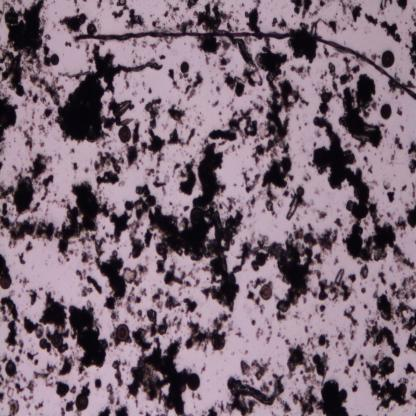Background material: (152, 143, 226, 260), (195, 144, 238, 312), (311, 115, 375, 220), (55, 181, 112, 261), (130, 336, 186, 415), (266, 224, 314, 316), (346, 217, 416, 269), (57, 81, 111, 143), (0, 1, 45, 72), (340, 73, 382, 148), (67, 297, 108, 371), (128, 308, 182, 349), (0, 166, 36, 217), (258, 40, 288, 101), (262, 155, 294, 212), (231, 233, 270, 276), (0, 217, 54, 248), (209, 108, 258, 141), (316, 267, 356, 305), (364, 318, 401, 359), (265, 100, 291, 156), (368, 378, 412, 410), (0, 49, 28, 99), (39, 289, 69, 332), (102, 251, 127, 301), (143, 98, 165, 154), (317, 377, 349, 415), (124, 184, 156, 219), (94, 148, 123, 186), (0, 294, 19, 350), (30, 72, 60, 106), (278, 80, 312, 108), (0, 93, 19, 142), (172, 159, 196, 197), (78, 233, 107, 264), (76, 266, 102, 300), (221, 197, 244, 235), (193, 2, 223, 31), (289, 36, 318, 66), (185, 320, 211, 352), (370, 289, 393, 324), (388, 272, 416, 300), (365, 352, 394, 379), (127, 118, 141, 171), (152, 286, 180, 312), (393, 301, 416, 332), (29, 153, 52, 182), (244, 0, 264, 33), (109, 211, 129, 244), (292, 388, 316, 415), (59, 9, 87, 32), (126, 288, 144, 323), (164, 263, 188, 289), (239, 358, 270, 378), (129, 219, 144, 260), (287, 345, 305, 379), (92, 44, 115, 70), (340, 56, 360, 85), (34, 362, 56, 387), (23, 314, 44, 340), (123, 264, 149, 285), (286, 196, 306, 223), (316, 227, 338, 251), (126, 8, 148, 31), (225, 73, 246, 97), (312, 351, 329, 380), (380, 21, 402, 42), (198, 36, 220, 57), (184, 72, 202, 97), (404, 31, 416, 68), (155, 240, 168, 274), (56, 353, 74, 377), (40, 176, 55, 204), (12, 379, 34, 398), (290, 1, 312, 20), (212, 315, 234, 333), (168, 103, 186, 125), (327, 62, 339, 94), (53, 378, 71, 398), (184, 295, 200, 317), (242, 171, 258, 193), (167, 67, 181, 92), (289, 66, 312, 81), (106, 297, 119, 323), (112, 360, 124, 388), (302, 364, 317, 386), (252, 142, 265, 166), (26, 285, 40, 307), (153, 175, 168, 195), (344, 305, 359, 325), (220, 11, 233, 34), (405, 203, 416, 230), (102, 75, 116, 96), (164, 1, 180, 19), (168, 128, 184, 146), (322, 18, 340, 34), (5, 396, 20, 415), (245, 194, 256, 219), (218, 55, 232, 73), (405, 331, 416, 353), (42, 44, 52, 68), (24, 126, 34, 150), (272, 16, 287, 32), (175, 20, 193, 33), (317, 332, 330, 350), (114, 402, 130, 416), (364, 12, 377, 29), (108, 101, 120, 119), (0, 251, 9, 275), (79, 378, 91, 396), (106, 384, 116, 405), (395, 218, 408, 234), (143, 228, 153, 248), (310, 18, 321, 36), (360, 264, 371, 281), (186, 125, 194, 148), (403, 361, 416, 375), (256, 323, 266, 341), (102, 118, 117, 130), (258, 120, 266, 142), (351, 5, 362, 21), (340, 0, 350, 17), (279, 399, 291, 413), (319, 102, 331, 116), (266, 320, 273, 344), (153, 17, 164, 32), (333, 216, 343, 232), (377, 270, 387, 286), (314, 251, 324, 267), (188, 272, 200, 285), (61, 402, 74, 414), (277, 310, 288, 324), (97, 406, 112, 416), (394, 135, 404, 150), (16, 342, 23, 363), (116, 0, 128, 12), (156, 152, 165, 168), (254, 277, 266, 289), (403, 80, 416, 91), (27, 351, 38, 364), (259, 381, 270, 394), (348, 352, 358, 366), (220, 40, 230, 54), (386, 189, 396, 203), (408, 158, 416, 175), (43, 107, 55, 118), (253, 101, 264, 113), (317, 206, 327, 219), (396, 0, 409, 10), (387, 79, 397, 92), (93, 376, 102, 390), (407, 141, 416, 155), (382, 179, 392, 191), (410, 6, 416, 26), (112, 9, 125, 18), (349, 325, 356, 341), (34, 399, 44, 410), (379, 0, 388, 12), (186, 1, 198, 10), (31, 202, 40, 214), (351, 379, 358, 394), (150, 42, 160, 52), (370, 53, 380, 63), (256, 305, 265, 316), (307, 336, 314, 350), (319, 305, 326, 319), (17, 254, 25, 266), (408, 68, 416, 80), (322, 43, 328, 58), (337, 331, 345, 342), (247, 291, 256, 300), (411, 182, 416, 198), (299, 22, 309, 30), (343, 364, 350, 375), (32, 93, 39, 104), (359, 353, 364, 368), (396, 108, 404, 117), (71, 162, 78, 172), (401, 182, 408, 192), (26, 241, 32, 252), (411, 388, 416, 401), (64, 40, 72, 48), (283, 188, 289, 198), (96, 0, 102, 10), (318, 0, 325, 8), (320, 72, 327, 80), (159, 53, 166, 61), (254, 296, 260, 305), (362, 155, 368, 164), (330, 52, 339, 58), (368, 163, 373, 173), (360, 286, 366, 294), (334, 255, 338, 267), (363, 302, 369, 310), (212, 101, 219, 107), (251, 320, 257, 326), (400, 124, 404, 132)
Cellulose filter fibre: (63, 60, 163, 81), (231, 37, 263, 88), (231, 377, 280, 405)
Cotton: (71, 31, 416, 101)
Diatom: (210, 332, 226, 353), (381, 50, 396, 68), (191, 207, 204, 226), (116, 324, 129, 342), (380, 102, 392, 121), (186, 374, 200, 390), (5, 360, 17, 378), (75, 394, 88, 410), (52, 333, 64, 349), (260, 285, 272, 300), (0, 274, 12, 288), (119, 128, 131, 142), (118, 101, 132, 113), (119, 116, 134, 127), (256, 253, 267, 268), (222, 228, 232, 243), (50, 52, 60, 65), (181, 59, 189, 74), (322, 92, 330, 103), (39, 338, 47, 348), (297, 186, 304, 197), (89, 24, 96, 34)
